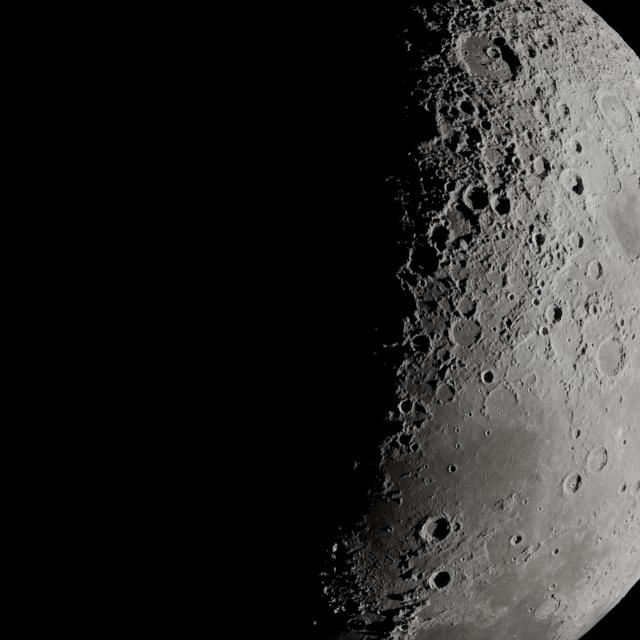crater: (600, 182, 640, 259), (459, 31, 507, 78), (483, 528, 522, 570), (595, 334, 630, 380), (595, 87, 631, 131), (548, 324, 580, 364), (483, 384, 517, 419), (420, 514, 458, 544), (457, 381, 487, 416), (407, 243, 439, 275), (512, 196, 540, 227), (450, 320, 478, 348), (559, 167, 584, 195), (462, 182, 487, 210), (560, 261, 586, 287), (427, 223, 452, 250), (445, 205, 469, 233), (435, 100, 459, 127), (586, 446, 609, 474), (533, 598, 561, 621), (568, 130, 592, 156), (564, 224, 584, 254), (514, 141, 537, 165), (428, 568, 451, 591), (482, 146, 505, 168), (588, 258, 606, 286), (434, 382, 455, 406), (444, 130, 465, 153), (562, 472, 582, 496), (462, 126, 483, 148), (518, 81, 540, 102), (419, 315, 440, 336), (416, 298, 438, 318), (404, 381, 426, 401), (354, 611, 381, 627), (410, 334, 430, 354), (492, 196, 511, 216), (532, 156, 550, 176), (545, 303, 562, 324), (345, 540, 366, 556), (403, 566, 424, 582), (448, 262, 466, 280), (458, 99, 476, 117), (410, 400, 428, 418), (606, 175, 622, 195), (479, 368, 496, 386), (457, 297, 474, 315), (446, 48, 462, 67), (617, 424, 632, 444), (437, 359, 452, 378), (532, 232, 547, 250), (398, 398, 413, 416), (486, 270, 502, 286), (525, 540, 540, 556), (524, 372, 538, 389), (347, 617, 366, 629), (331, 540, 345, 556), (507, 273, 521, 288), (398, 433, 413, 447), (386, 494, 401, 507), (509, 534, 523, 547), (444, 180, 457, 194), (387, 548, 401, 561), (492, 35, 506, 48), (480, 118, 492, 132), (398, 471, 412, 482), (618, 482, 629, 495), (560, 103, 570, 117), (409, 441, 420, 453), (526, 46, 536, 59), (572, 428, 582, 440), (504, 317, 514, 329), (538, 325, 548, 336), (386, 410, 396, 421), (533, 286, 543, 297), (590, 304, 599, 316), (628, 315, 636, 328), (537, 278, 547, 288), (506, 292, 516, 302), (447, 464, 457, 474), (618, 316, 626, 328), (532, 297, 541, 307), (634, 480, 640, 495), (382, 525, 392, 534), (552, 546, 560, 556), (516, 379, 524, 387), (548, 583, 556, 591), (454, 442, 462, 450), (423, 477, 431, 485), (491, 324, 498, 333), (521, 498, 528, 506), (484, 429, 491, 437), (477, 387, 484, 395), (596, 536, 603, 544), (576, 518, 582, 526), (551, 528, 557, 536), (466, 411, 472, 418), (454, 427, 460, 434), (566, 336, 572, 343), (537, 506, 543, 512), (460, 556, 466, 562), (528, 607, 534, 613), (570, 445, 575, 451)
